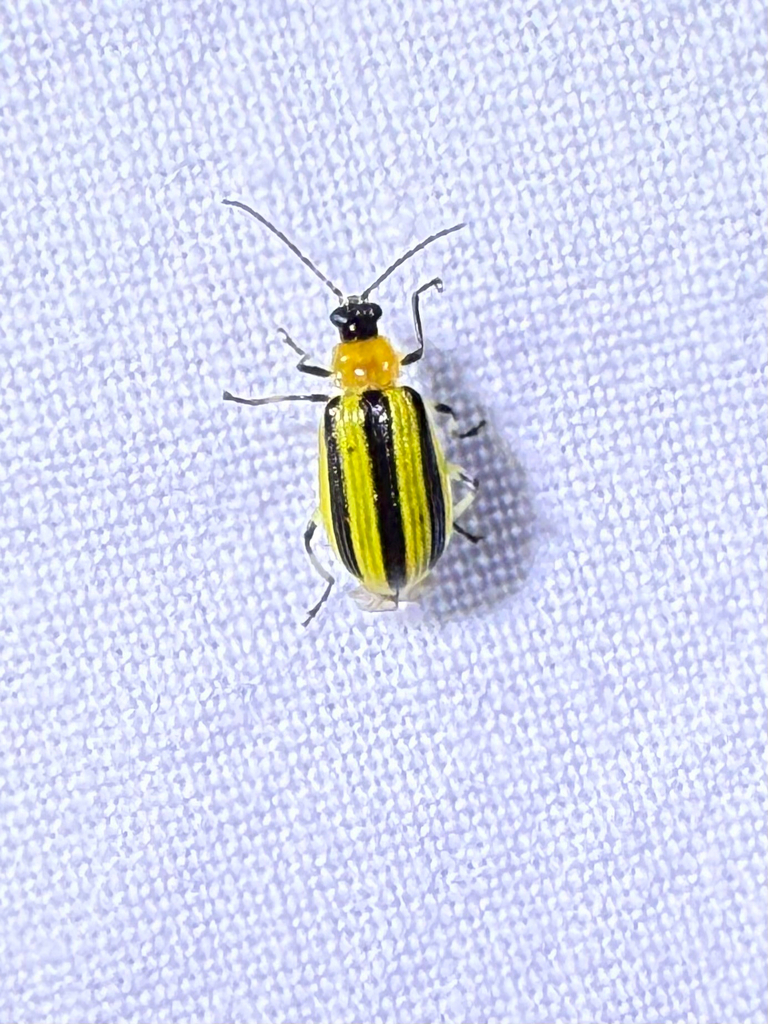potato_beetle: (96, 96, 648, 748)
